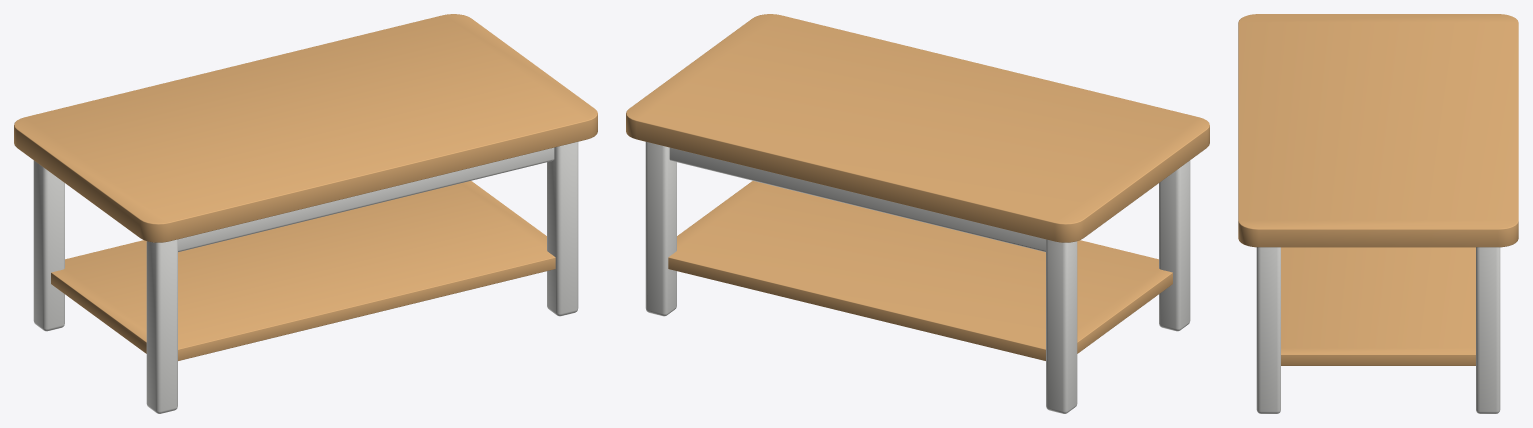
Rendered from mesa_centro_prateleira_madeira.glb.
3 renders of one model, left to right at view 1: azimuth 30°, elevation 25°; view 2: azimuth 150°, elevation 25°; view 3: azimuth 270°, elevation 25°, orthographic. The views are drawn at different scales.
Parts seen in each view (by area): view 1: mesa_centro_prateleira_madeira; view 2: mesa_centro_prateleira_madeira; view 3: mesa_centro_prateleira_madeira.
Part boxes in pixels (x1,y1,x2,y2): mesa_centro_prateleira_madeira: (14,14,597,413); mesa_centro_prateleira_madeira: (626,14,1209,413); mesa_centro_prateleira_madeira: (1238,14,1518,413).
Bounding box in the file's own units: 1 × 0.42 × 0.55.
1 material, 1 textured.
